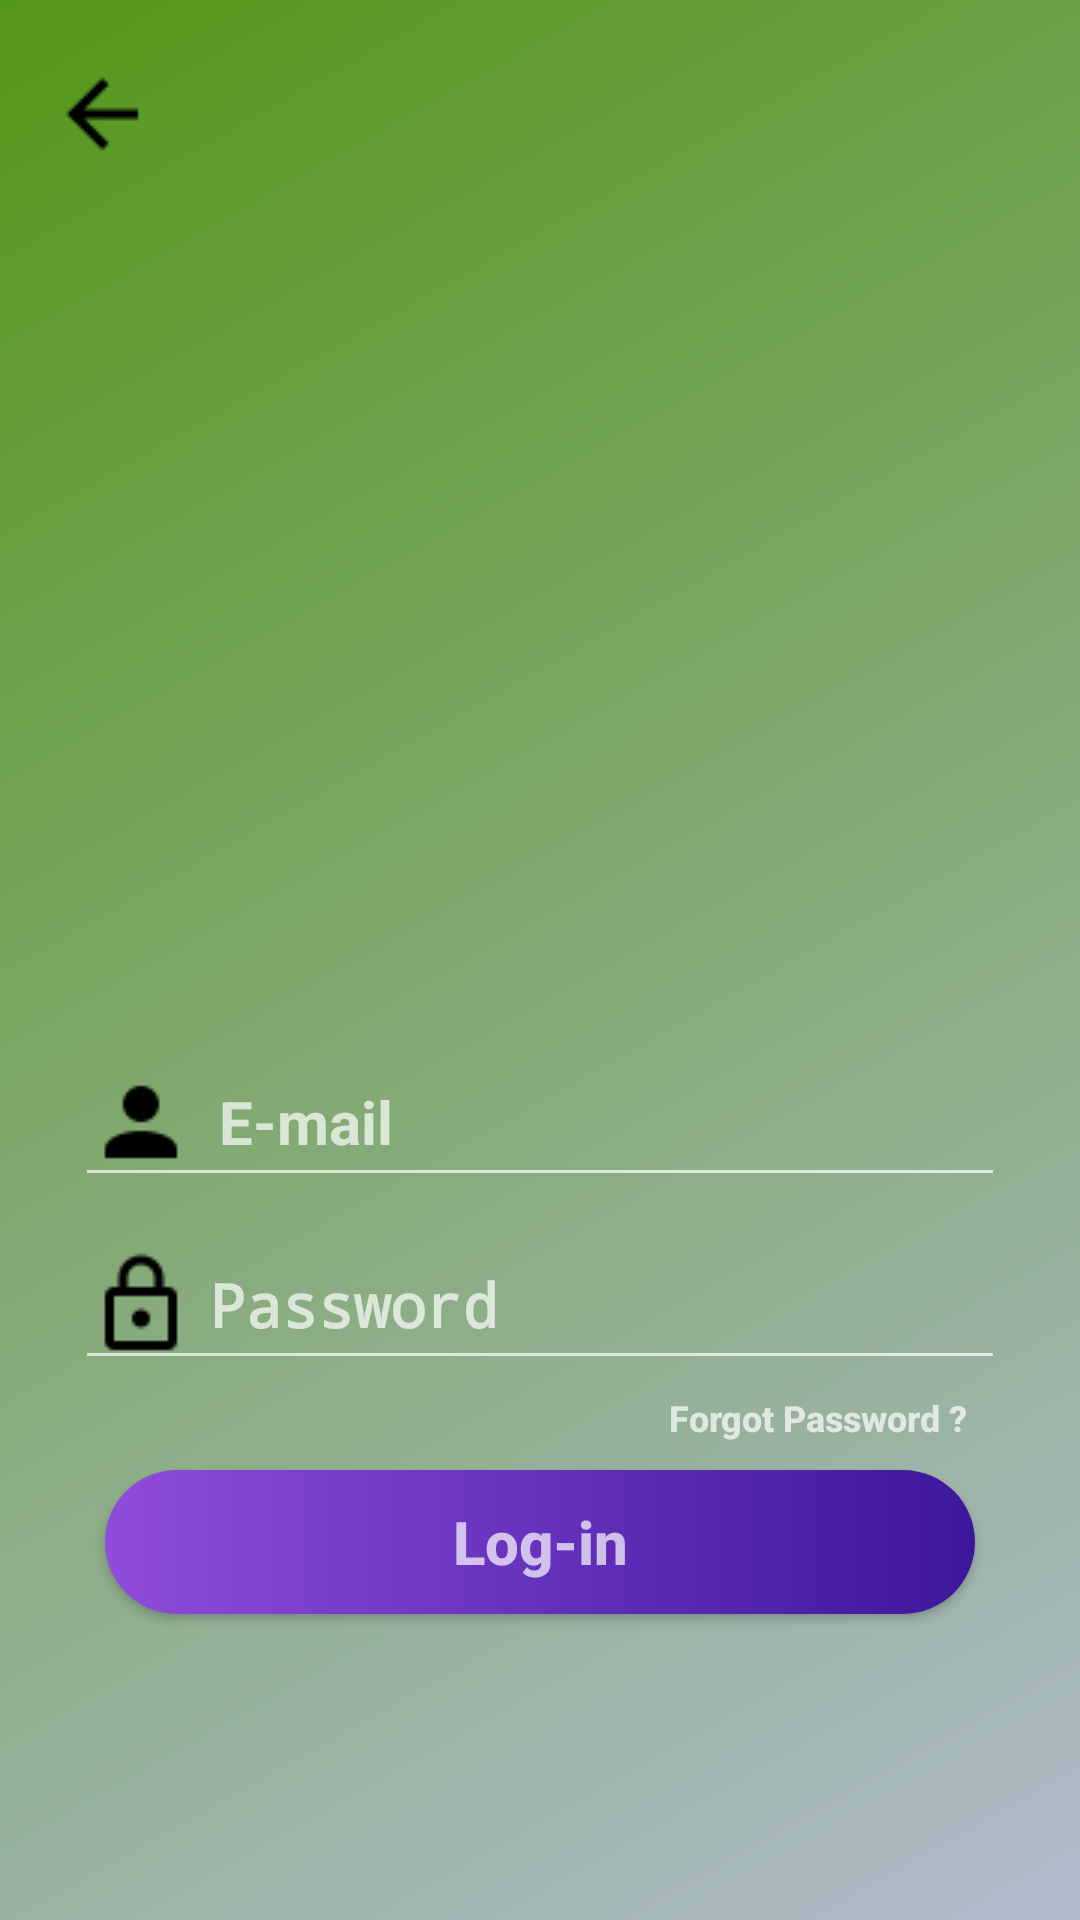

Screen size 1080px x 1920px. Icon name, then its box in pixels as (x1, y1, x2, y2):
arrow left: (66, 77, 139, 151)
